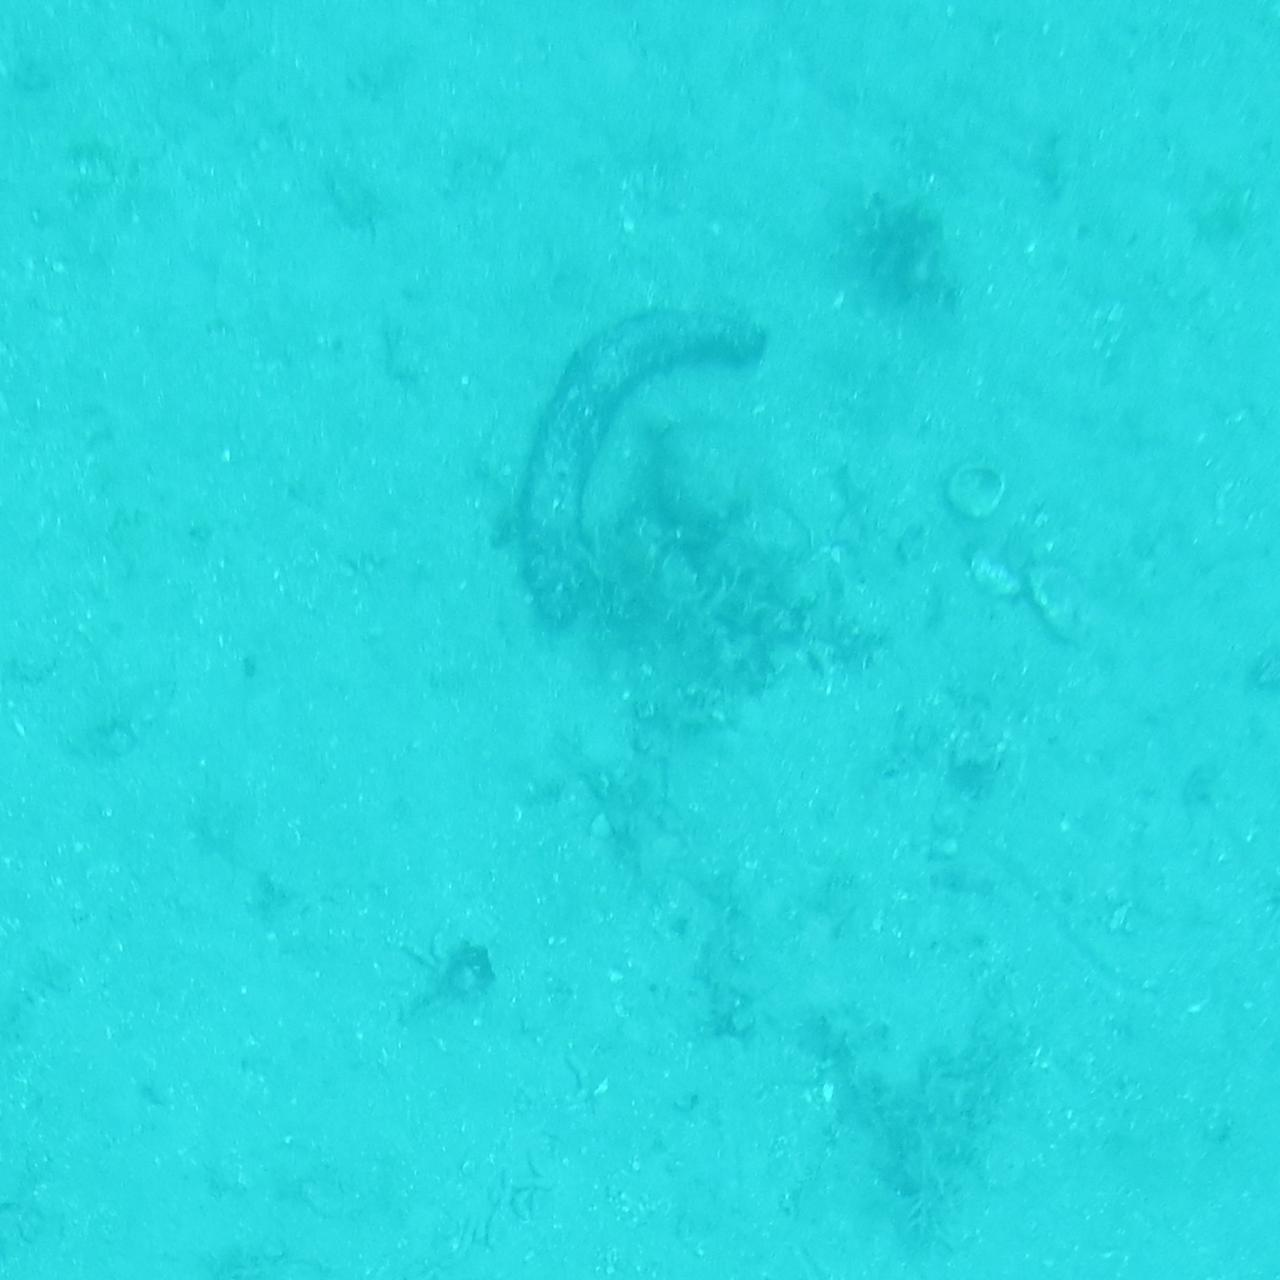Holothuria tubulosa: (512, 290, 768, 641)
